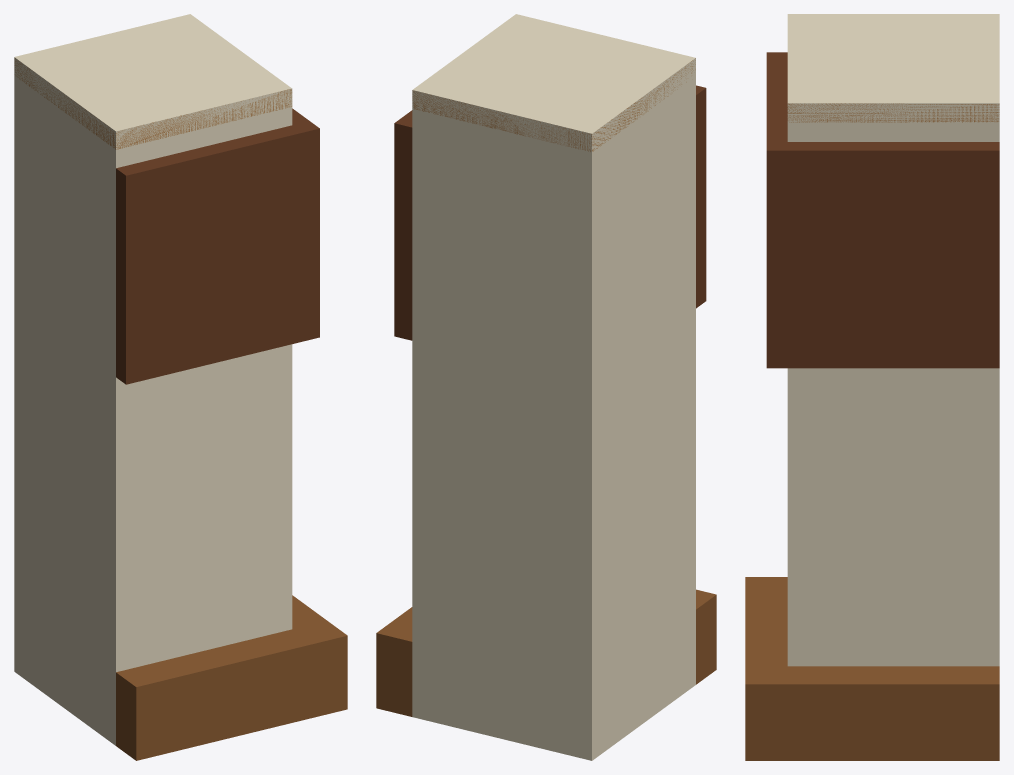
File: wall-corner.glb
3 renders of one model, left to right at view 1: azimuth 30°, elevation 25°; view 2: azimuth 150°, elevation 25°; view 3: azimuth 270°, elevation 25°, orthographic. The views are drawn at different scales.
Visible parts, largest first — view 1: wall-corner; view 2: wall-corner; view 3: wall-corner.
Part boxes in pixels (<box>): wall-corner: <box>14,14,347,760</box>; wall-corner: <box>376,14,716,760</box>; wall-corner: <box>745,14,999,760</box>.
Bounding box in the file's own units: 0.18 × 0.5 × 0.18.
1 material, 1 textured.
